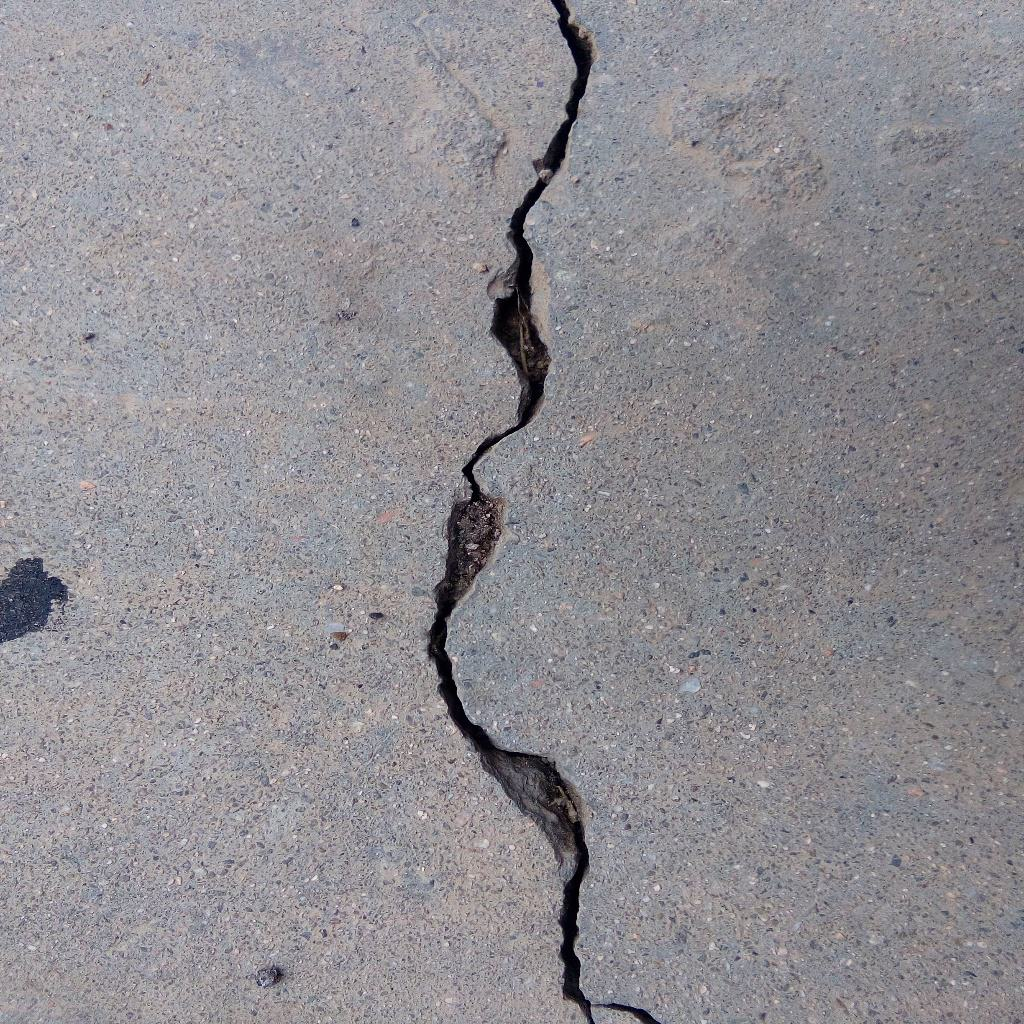Crack: (424, 1, 659, 1024)
